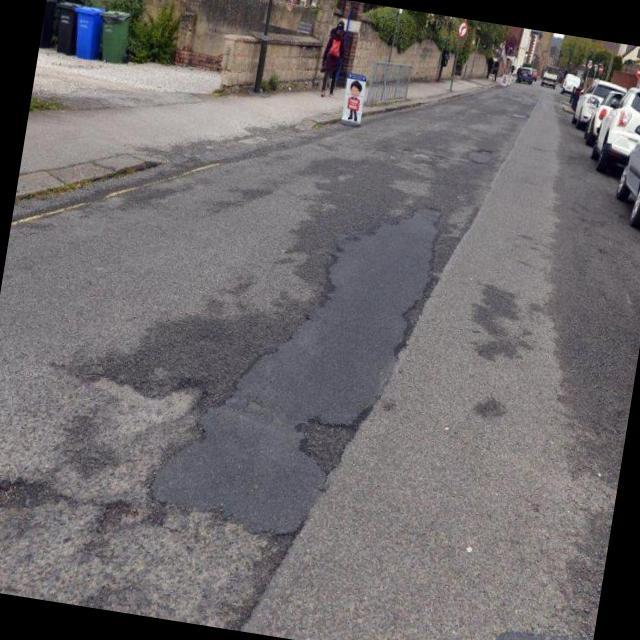Pothole: (153, 205, 440, 537)
